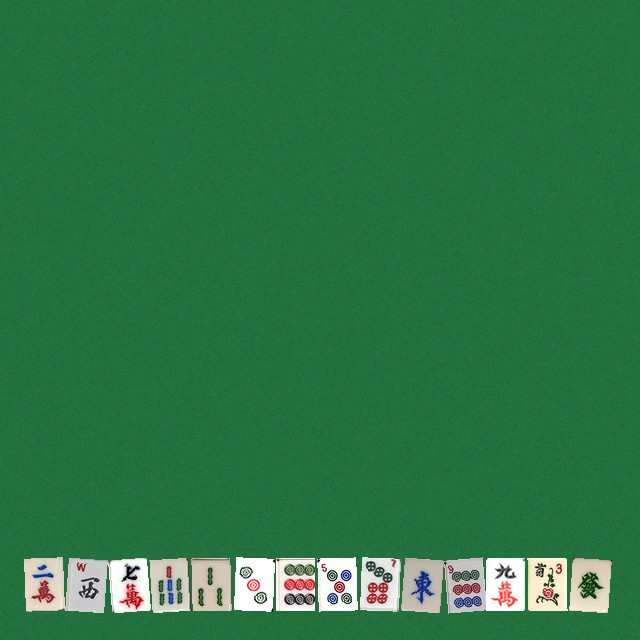tile: (23, 557, 62, 610), (65, 557, 104, 610), (107, 557, 146, 610), (149, 557, 188, 610), (191, 557, 230, 610), (233, 557, 272, 610), (275, 557, 314, 610), (317, 557, 356, 610), (359, 557, 398, 610), (401, 557, 440, 610), (443, 557, 482, 610), (485, 557, 524, 610), (527, 557, 566, 610), (569, 557, 608, 610)
